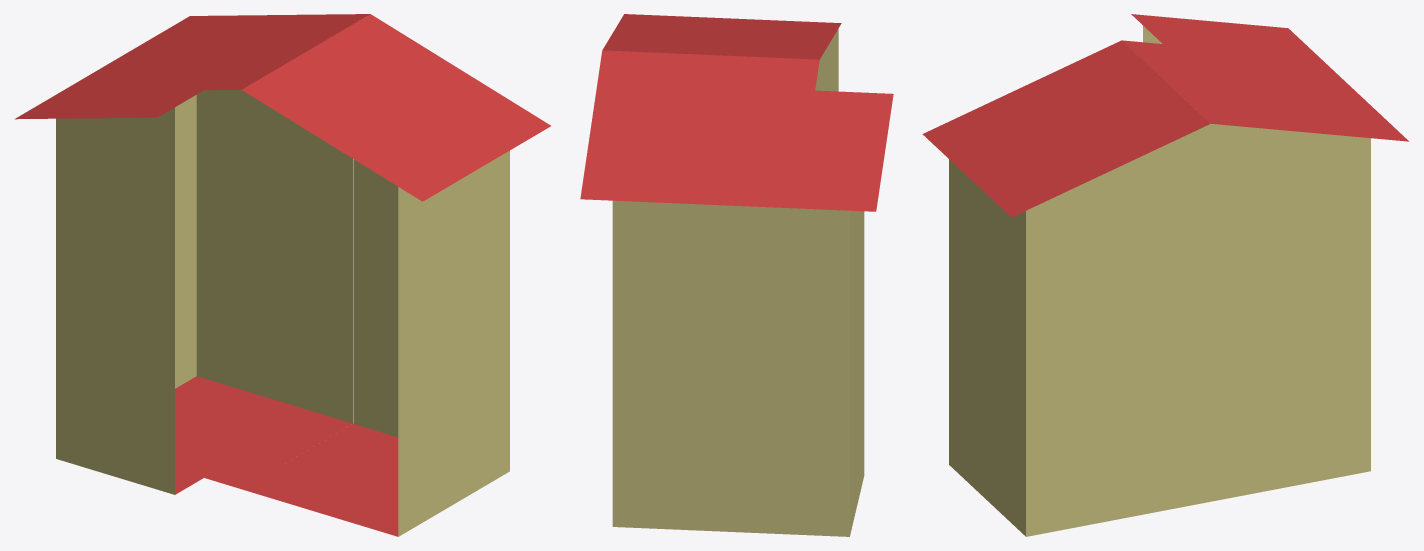
3 renders of one model, left to right at view 1: azimuth 30°, elevation 25°; view 2: azimuth 150°, elevation 25°; view 3: azimuth 270°, elevation 25°, orthographic. The views are drawn at different scales.
Size of the model in its own units: 7.67 by 8.34 by 7.39.
